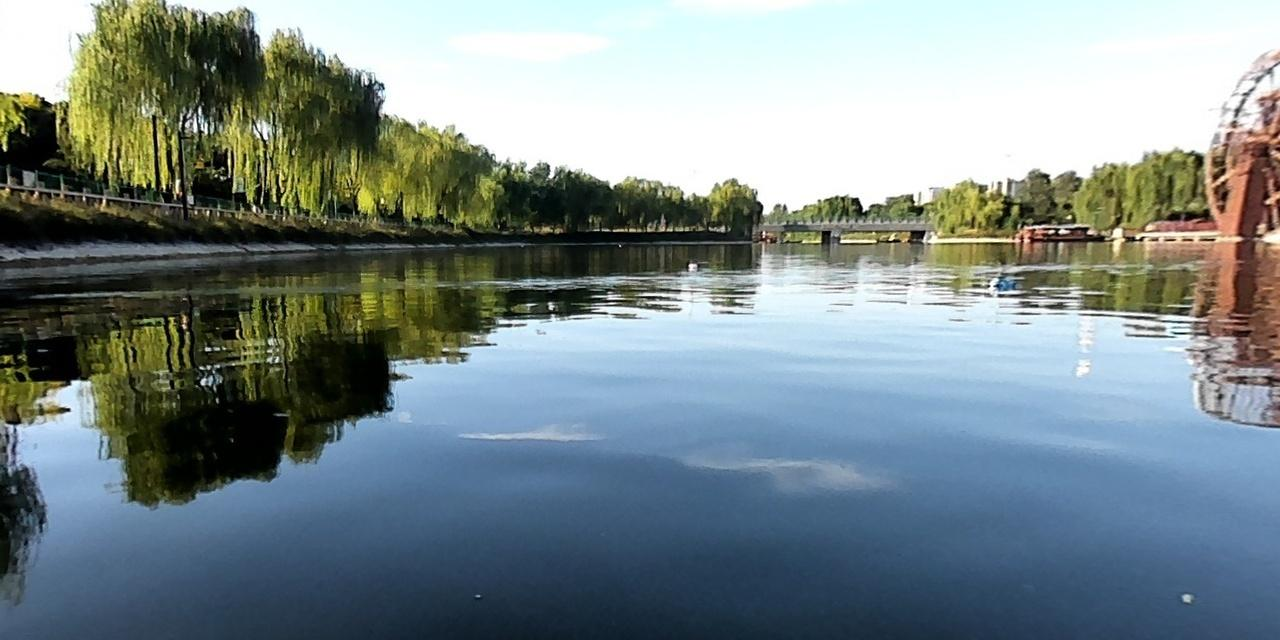bottle: (987, 272, 1017, 291)
